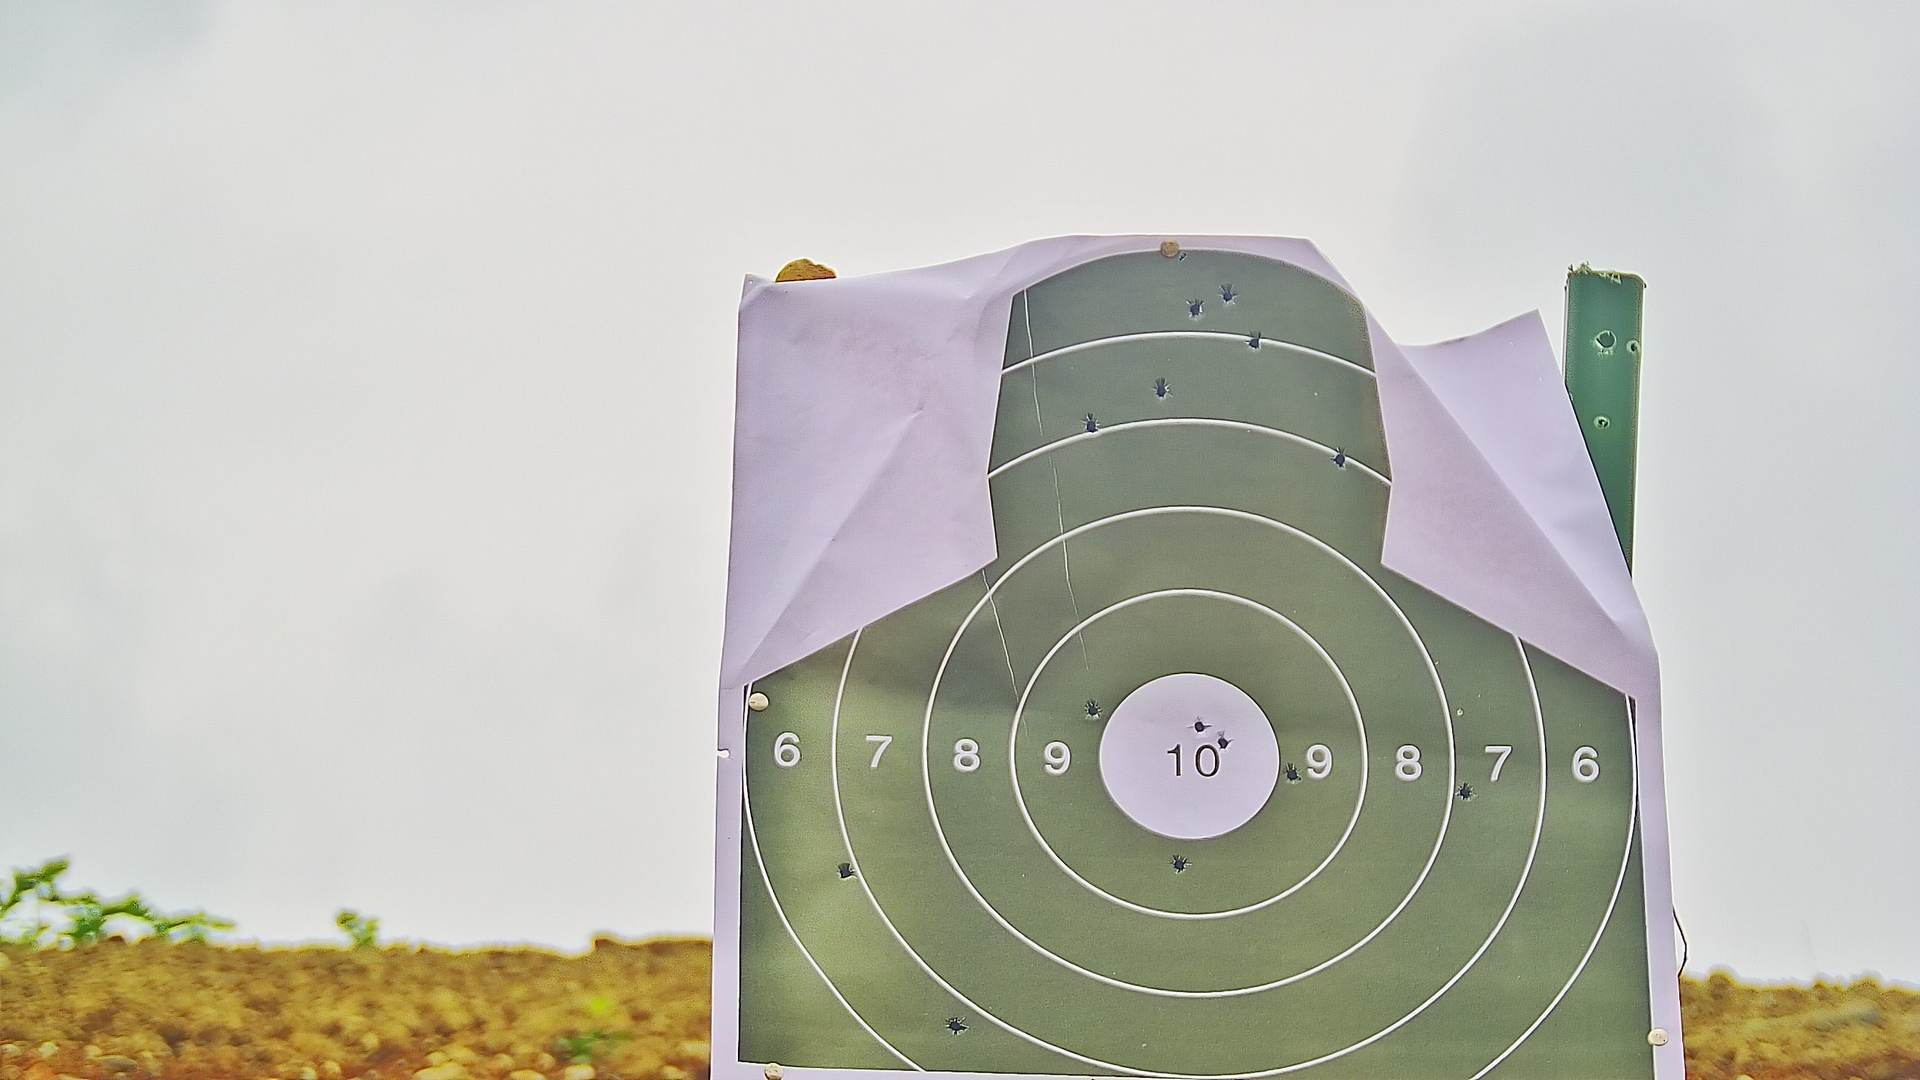hole: (1456, 783, 1476, 804), (947, 1018, 969, 1036), (1187, 298, 1204, 318), (1217, 287, 1238, 303), (837, 862, 856, 880), (1284, 765, 1302, 783), (1174, 856, 1189, 873), (1335, 448, 1348, 468), (1084, 702, 1100, 717), (1084, 415, 1098, 433), (1247, 334, 1261, 351), (1193, 719, 1207, 735), (1217, 735, 1230, 750), (1154, 381, 1166, 397)
kernel: (1188, 761, 1189, 764)
target: (740, 253, 1638, 1080)
ten: (1097, 669, 1280, 844)
